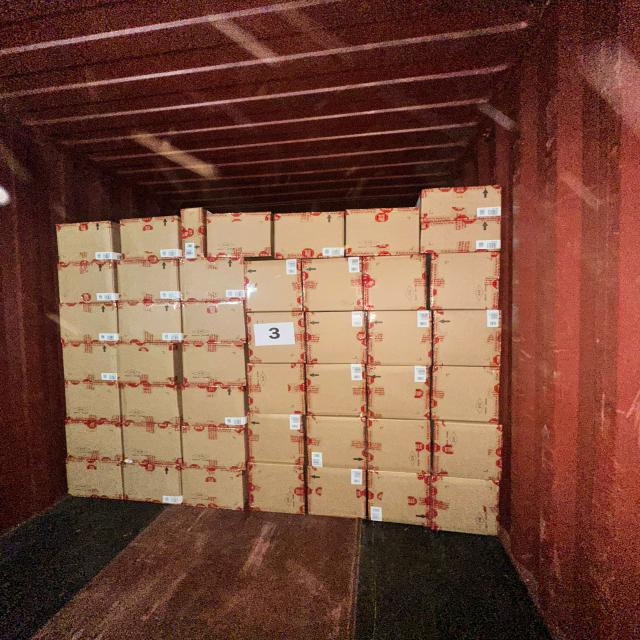Carton: (419, 187, 504, 246), (432, 252, 508, 311), (428, 362, 501, 422), (429, 476, 499, 538), (434, 311, 508, 369), (431, 421, 502, 481), (365, 472, 431, 530), (363, 362, 430, 419), (344, 207, 420, 257), (366, 312, 431, 370), (361, 255, 427, 312), (364, 418, 431, 473), (307, 314, 371, 369), (305, 257, 366, 313), (307, 466, 368, 521), (308, 363, 370, 417), (306, 417, 368, 471), (273, 212, 344, 259), (248, 463, 308, 518), (248, 362, 308, 416), (246, 259, 304, 314), (248, 314, 307, 367), (206, 210, 272, 257), (249, 413, 308, 465), (180, 426, 248, 471), (180, 258, 248, 303), (180, 467, 246, 512), (181, 343, 248, 387), (180, 383, 248, 425), (182, 301, 248, 344), (116, 301, 182, 344), (116, 259, 180, 303), (118, 218, 180, 262), (115, 342, 178, 385), (65, 420, 124, 464), (58, 262, 119, 304), (54, 222, 113, 265), (59, 302, 120, 343), (122, 423, 181, 465), (122, 465, 182, 506), (119, 383, 180, 423), (66, 461, 125, 502), (63, 342, 120, 383), (64, 380, 121, 421)
